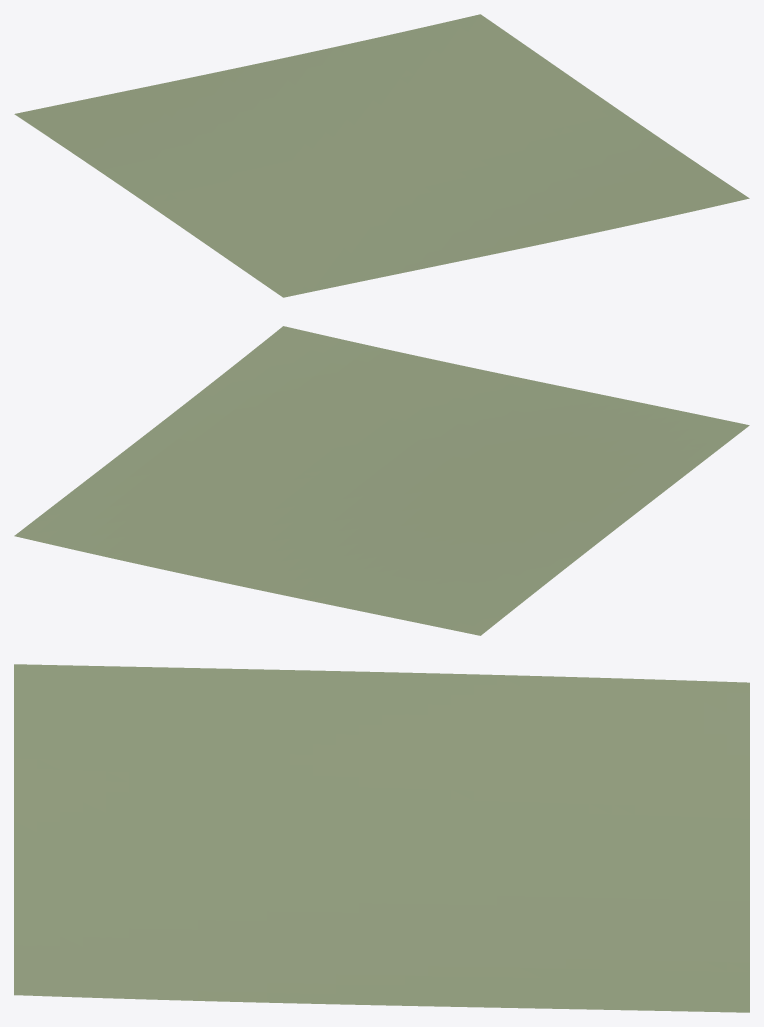
File: expanse-2-8.glb
The picture shows the model from 3 angles, top to bottom: view 1: azimuth 30°, elevation 25°; view 2: azimuth 150°, elevation 25°; view 3: azimuth 270°, elevation 25°; orthographic projection. The views are drawn at different scales.
Parts seen in each view (by area): view 1: expanse-2-8; view 2: expanse-2-8; view 3: expanse-2-8.
Part boxes in pixels (x1,y1,x2,y2): expanse-2-8: [14, 14, 749, 297]; expanse-2-8: [14, 326, 749, 635]; expanse-2-8: [14, 664, 749, 1012].
Bounding box in the file's own units: 256 × 14.4 × 256.
